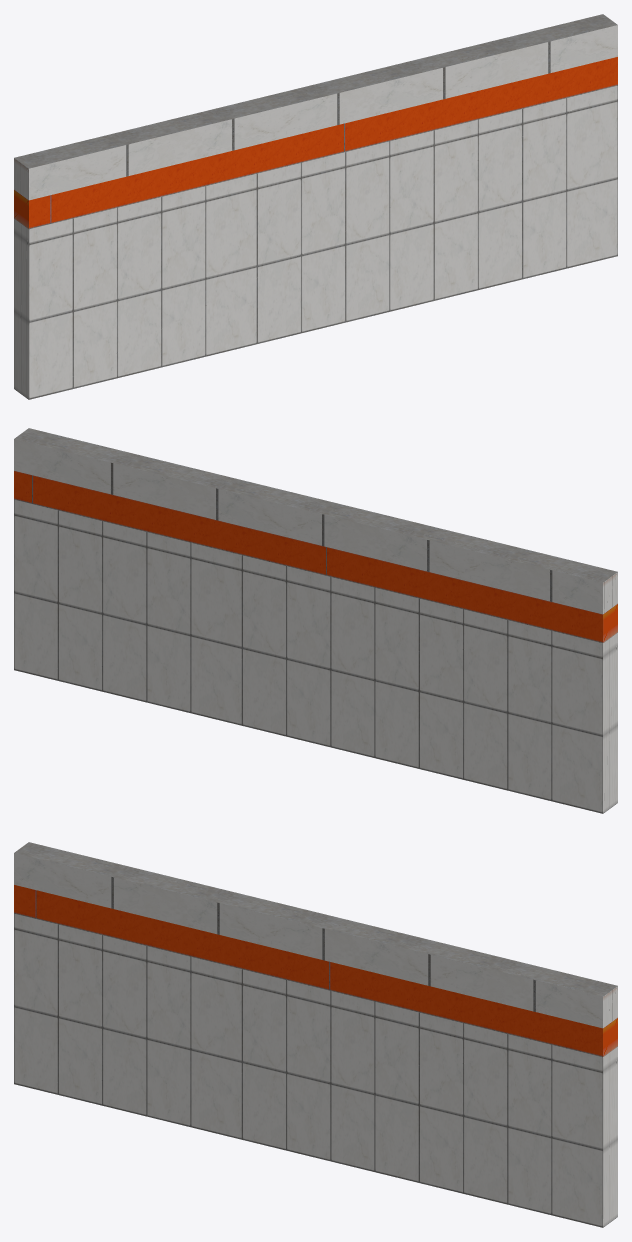
Rendered from WallTopHalf.fbx.
The picture shows the model from 3 angles, top to bottom: view 1: azimuth 30°, elevation 25°; view 2: azimuth 150°, elevation 25°; view 3: azimuth 330°, elevation 25°; orthographic projection.
Parts seen in each view (by area): view 1: WallTopHalf; view 2: WallTopHalf; view 3: WallTopHalf.
Part boxes in pixels (x1,y1,x2,y2): WallTopHalf: (14, 14, 617, 399); WallTopHalf: (14, 428, 617, 813); WallTopHalf: (14, 842, 617, 1227).
Bounding box in the file's own units: 4 × 1.5 × 0.175.
